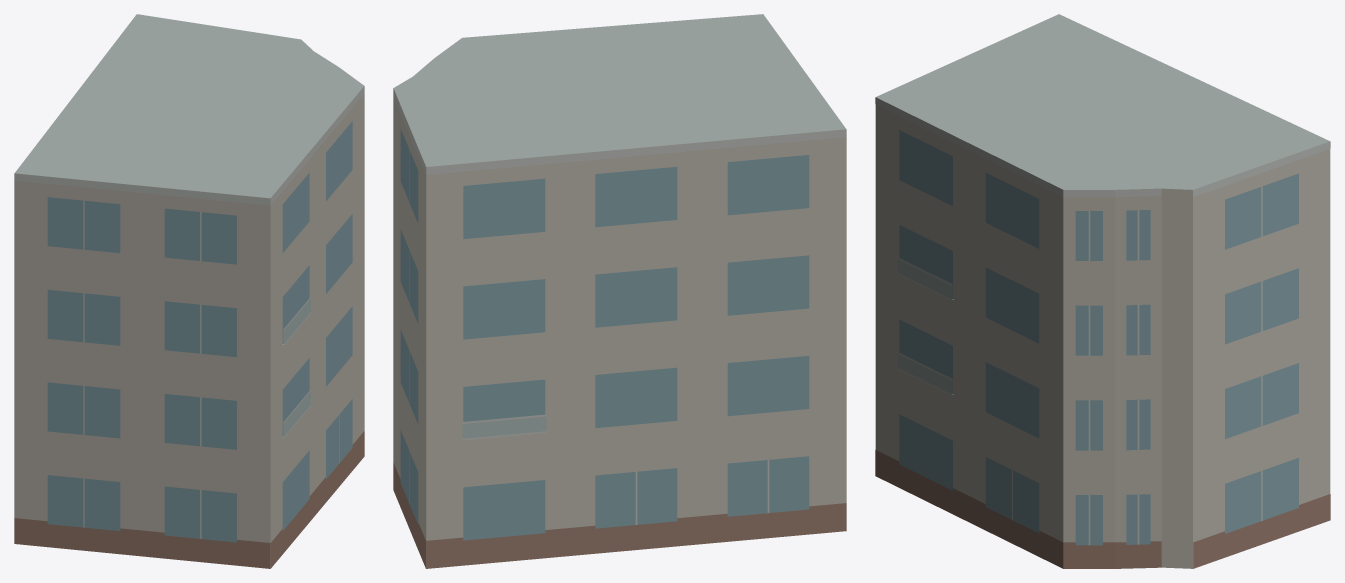
The model's file is survey-upis-32943077.glb.
The picture shows the model from 3 angles, left to right: view 1: azimuth 30°, elevation 25°; view 2: azimuth 150°, elevation 25°; view 3: azimuth 270°, elevation 25°; orthographic projection. The views are drawn at different scales.
Visible parts, largest first — view 1: survey-upis-32943077.tmp; view 2: survey-upis-32943077.tmp; view 3: survey-upis-32943077.tmp.
Boxes of the visible parts, bbox=[...] form: survey-upis-32943077.tmp: bbox=[14, 14, 364, 568]; survey-upis-32943077.tmp: bbox=[393, 14, 846, 568]; survey-upis-32943077.tmp: bbox=[875, 14, 1330, 568].
Bounding box in the file's own units: 12.45 × 12.5 × 13.6.
